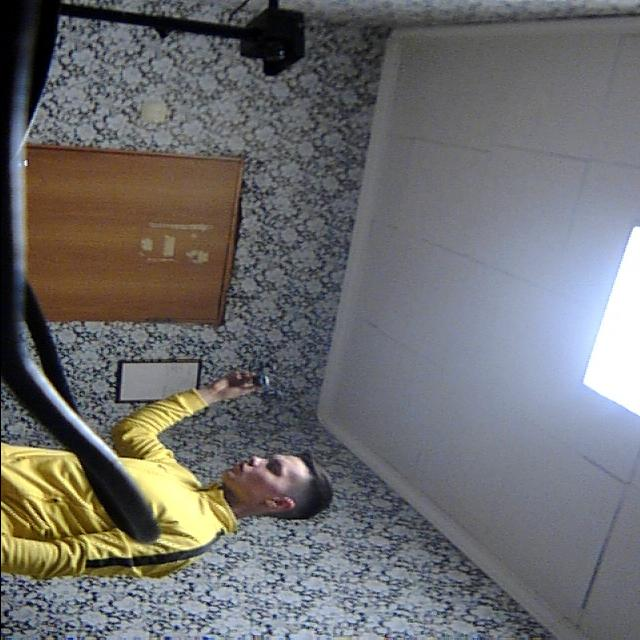drone: (235, 352, 293, 414)
